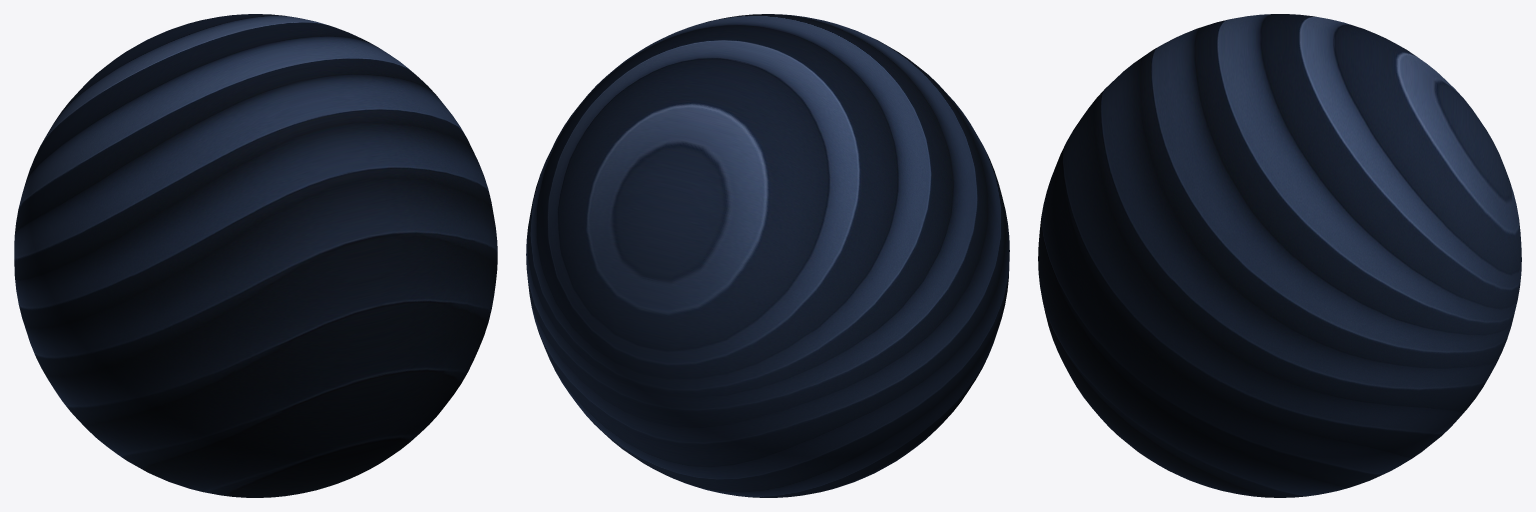
Rendered from ball.glb.
3 views of the same model, side by side, from view 1: azimuth 30°, elevation 25°; view 2: azimuth 150°, elevation 25°; view 3: azimuth 270°, elevation 25° (orthographic).
Visible parts, largest first — view 1: Empty.003; view 2: Empty.003; view 3: Empty.003.
Part boxes in pixels (x1,y1,x2,y2): Empty.003: [14, 14, 497, 497]; Empty.003: [526, 14, 1009, 497]; Empty.003: [1038, 14, 1521, 497].
Bounding box in the file's own units: 1.95 × 1.95 × 1.95.
Materials: 1 (1 with a texture image).
